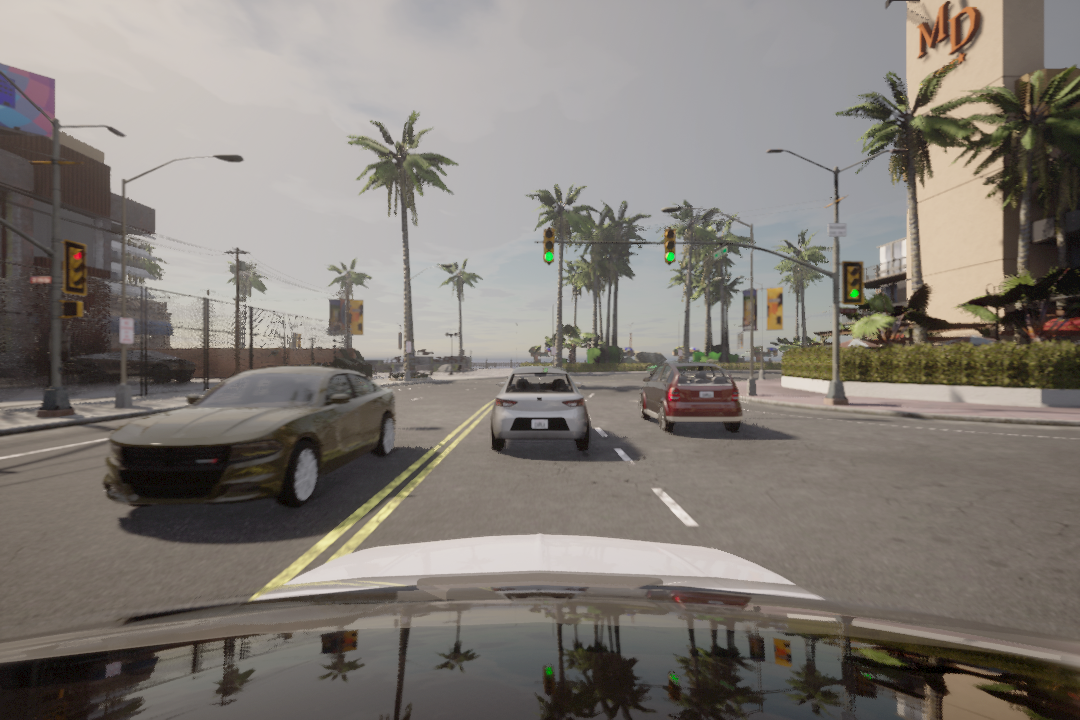TrafficLight: (61, 235, 87, 297), (846, 264, 863, 302), (662, 227, 677, 267), (544, 226, 553, 265)
